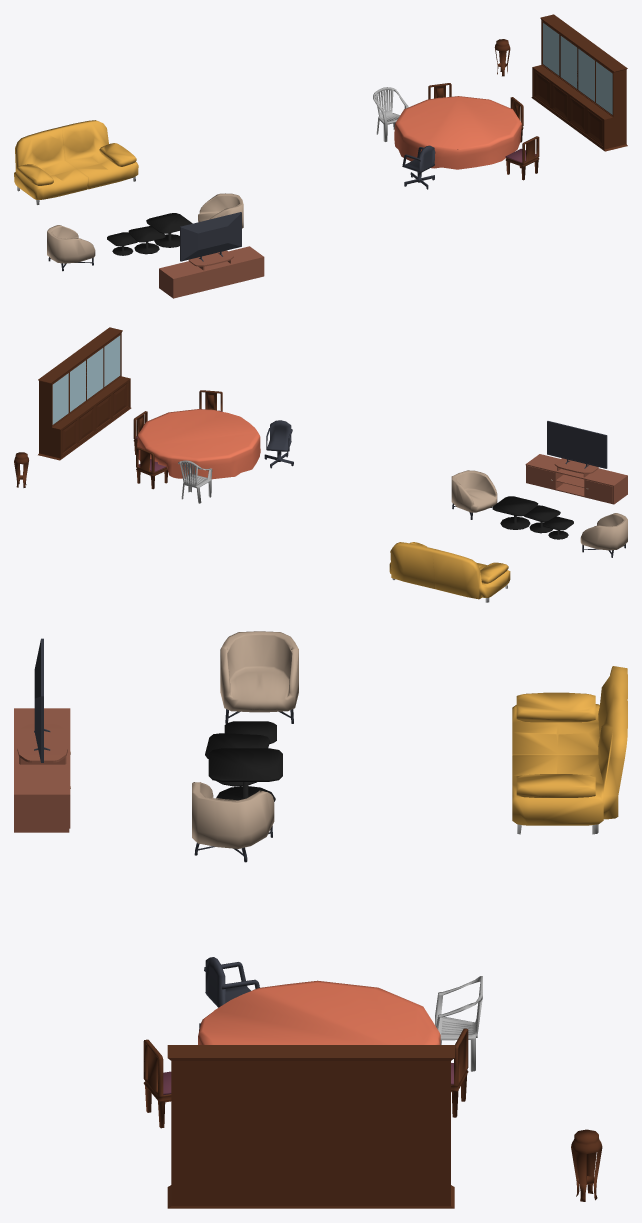
File: mobilier_salon.fbx
3 renders of one model, top to bottom at view 1: azimuth 30°, elevation 25°; view 2: azimuth 150°, elevation 25°; view 3: azimuth 270°, elevation 25°, orthographic. The views are drawn at different scales.
Visible parts, largest first — view 1: living, nappe, Cube.047, Cube.049, Cube.050, Cube.046, Cube.048, Cylinder.013, chaise_grise, chaise_bureau, chaise_3, Cylinder.014 (+1 smaller); view 2: living, nappe, Cube.047, Cube.049, Cube.050, Cube.048, Cube.046, Cylinder.013, chaise_bureau, chaise_grise, chaise_1, Cylinder.014 (+1 smaller); view 3: living, Cube.047, nappe, Cube.049, Cube.046, Cube.048, Cylinder.013, Cylinder.011, chaise_grise, chaise_3, chaise_bureau, chaise_1 (+2 smaller).
Boxes of the visible parts, x1=… form: living: x1=531, y1=14, x2=627, y2=151; nappe: x1=394, y1=96, x2=521, y2=169; Cube.047: x1=14, y1=120, x2=138, y2=204; Cube.049: x1=159, y1=246, x2=264, y2=298; Cube.050: x1=180, y1=212, x2=241, y2=261; Cube.046: x1=47, y1=225, x2=95, y2=271; Cube.048: x1=198, y1=193, x2=243, y2=228; Cylinder.013: x1=146, y1=213, x2=192, y2=247; chaise_grise: x1=373, y1=87, x2=408, y2=141; chaise_bureau: x1=402, y1=145, x2=435, y2=189; chaise_3: x1=505, y1=136, x2=539, y2=180; Cylinder.014: x1=128, y1=226, x2=165, y2=254; living: x1=38, y1=327, x2=131, y2=460; nappe: x1=137, y1=409, x2=260, y2=479; Cube.047: x1=389, y1=542, x2=510, y2=602; Cube.049: x1=525, y1=454, x2=627, y2=504; Cube.050: x1=547, y1=421, x2=607, y2=468; Cube.048: x1=451, y1=470, x2=497, y2=519; Cube.046: x1=580, y1=513, x2=627, y2=557; Cylinder.013: x1=492, y1=496, x2=538, y2=529; chaise_bureau: x1=264, y1=420, x2=293, y2=468; chaise_grise: x1=178, y1=460, x2=212, y2=503; chaise_1: x1=136, y1=447, x2=167, y2=489; Cylinder.014: x1=523, y1=505, x2=560, y2=533; living: x1=167, y1=1045, x2=454, y2=1208; Cube.047: x1=512, y1=666, x2=627, y2=834; nappe: x1=198, y1=980, x2=440, y2=1044; Cube.049: x1=14, y1=708, x2=70, y2=832; Cube.046: x1=220, y1=631, x2=298, y2=723; Cube.048: x1=192, y1=782, x2=274, y2=862; Cylinder.013: x1=208, y1=748, x2=282, y2=801; Cylinder.011: x1=571, y1=1129, x2=602, y2=1201; chaise_grise: x1=435, y1=976, x2=482, y2=1071; chaise_3: x1=143, y1=1039, x2=171, y2=1128; chaise_bureau: x1=199, y1=957, x2=259, y2=1030; chaise_1: x1=451, y1=1028, x2=468, y2=1117.
Size of the model in its own units: 4479 by 633 by 2220.
